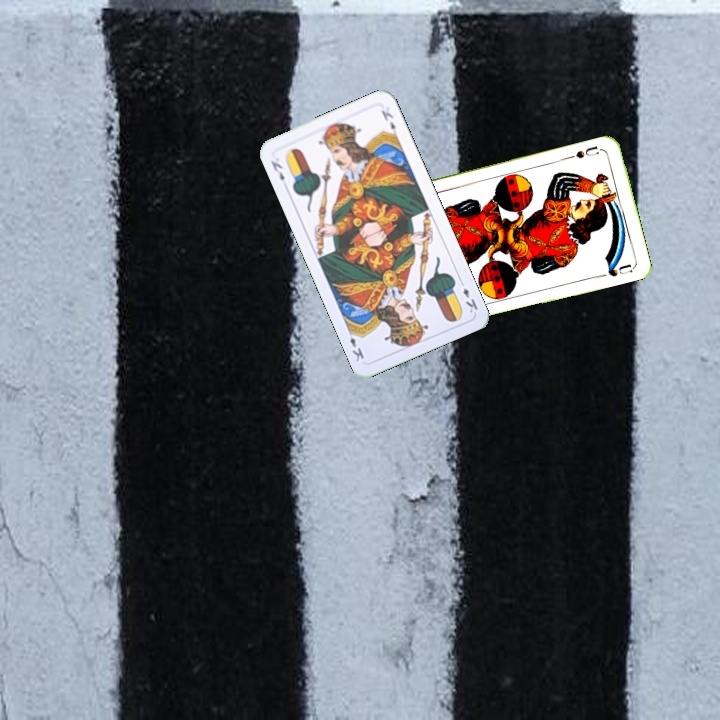EK: (455, 276, 480, 316), (267, 156, 287, 184)
SU: (572, 142, 601, 161)
